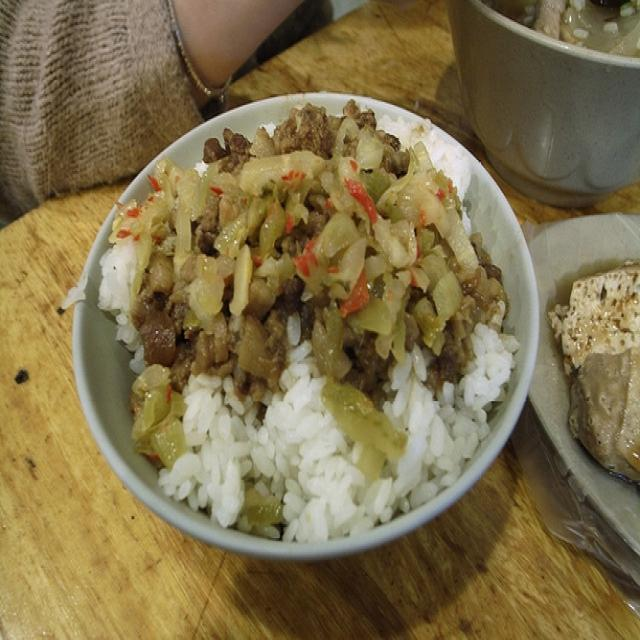猪肉菜式: (62, 58, 557, 573)
